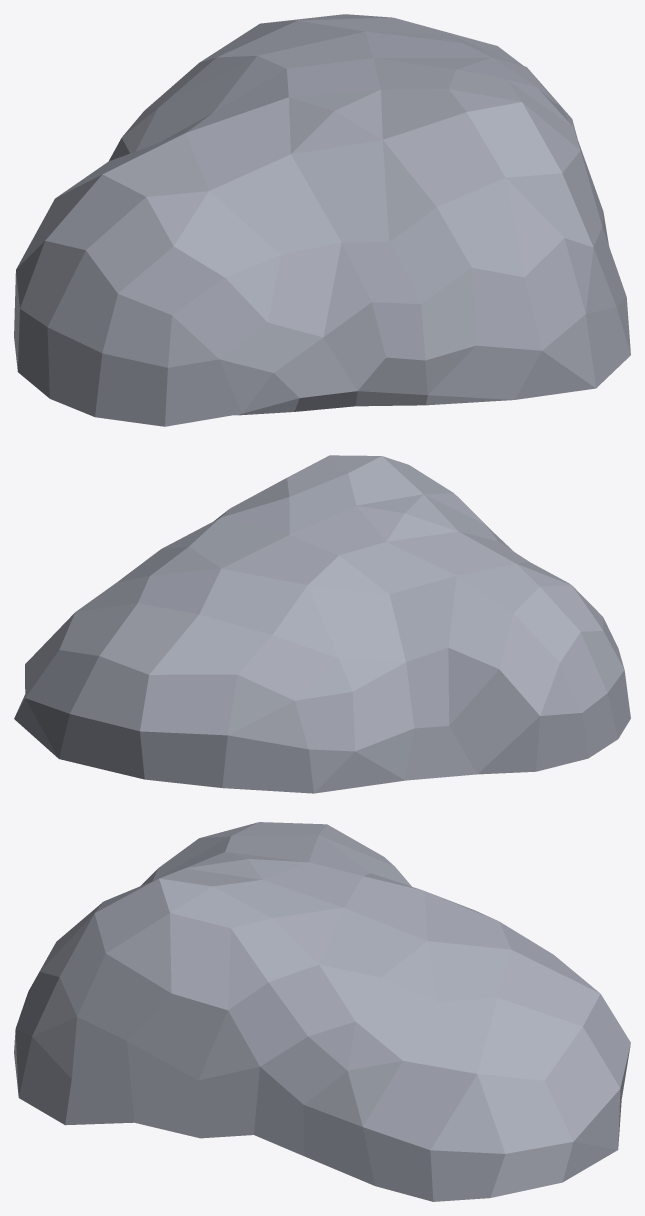
Rendered from rock_3.fbx.
3 renders of one model, top to bottom at view 1: azimuth 30°, elevation 25°; view 2: azimuth 150°, elevation 25°; view 3: azimuth 270°, elevation 25°, orthographic. The views are drawn at different scales.
Parts seen in each view (by area): view 1: rock_3; view 2: rock_3; view 3: rock_3.
Boxes of the visible parts, left/top/right/bottom form: rock_3: left=14, top=14, right=630, bottom=426; rock_3: left=14, top=455, right=630, bottom=793; rock_3: left=14, top=822, right=630, bottom=1201.
Size of the model in its own units: 385 by 141 by 374.
